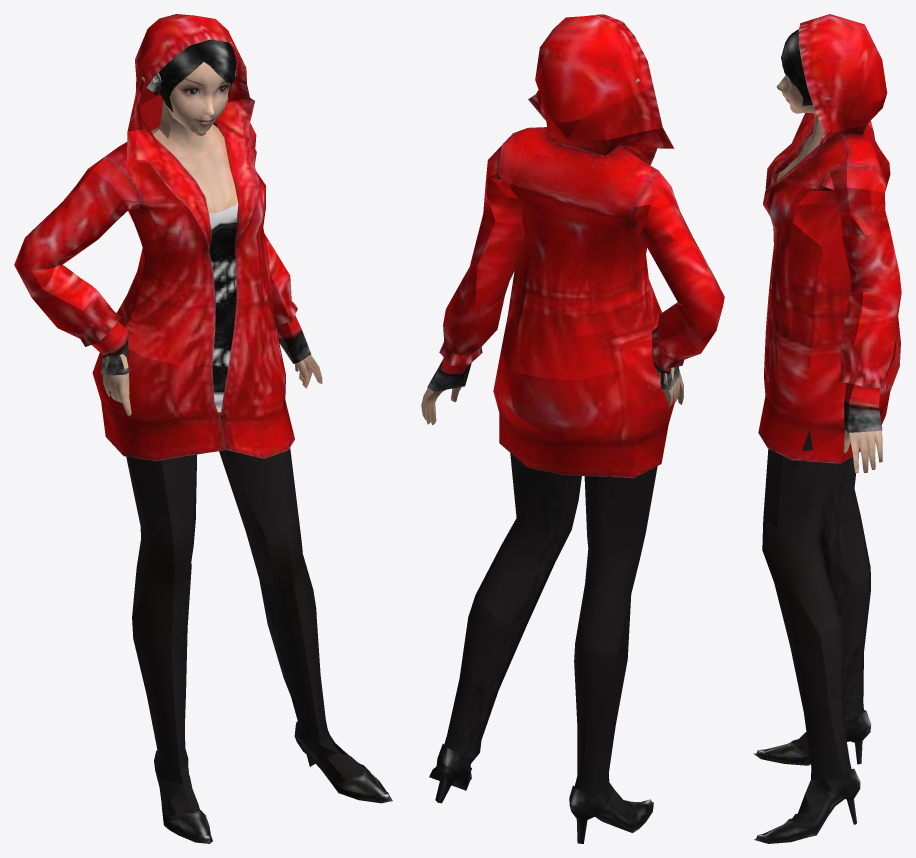
Rendered from girl4.gltf.
3 renders of one model, left to right at view 1: azimuth 30°, elevation 25°; view 2: azimuth 150°, elevation 25°; view 3: azimuth 270°, elevation 25°, orthographic. The views are drawn at different scales.
Visible parts, largest first — view 1: node-0; view 2: node-0; view 3: node-0.
Part boxes in pixels (<box>): node-0: <box>14,14,392,843</box>; node-0: <box>421,14,724,843</box>; node-0: <box>753,14,901,843</box>.
Bounding box in the file's own units: 0.7062 × 1.69 × 0.3025.
3 materials, 3 textured.
